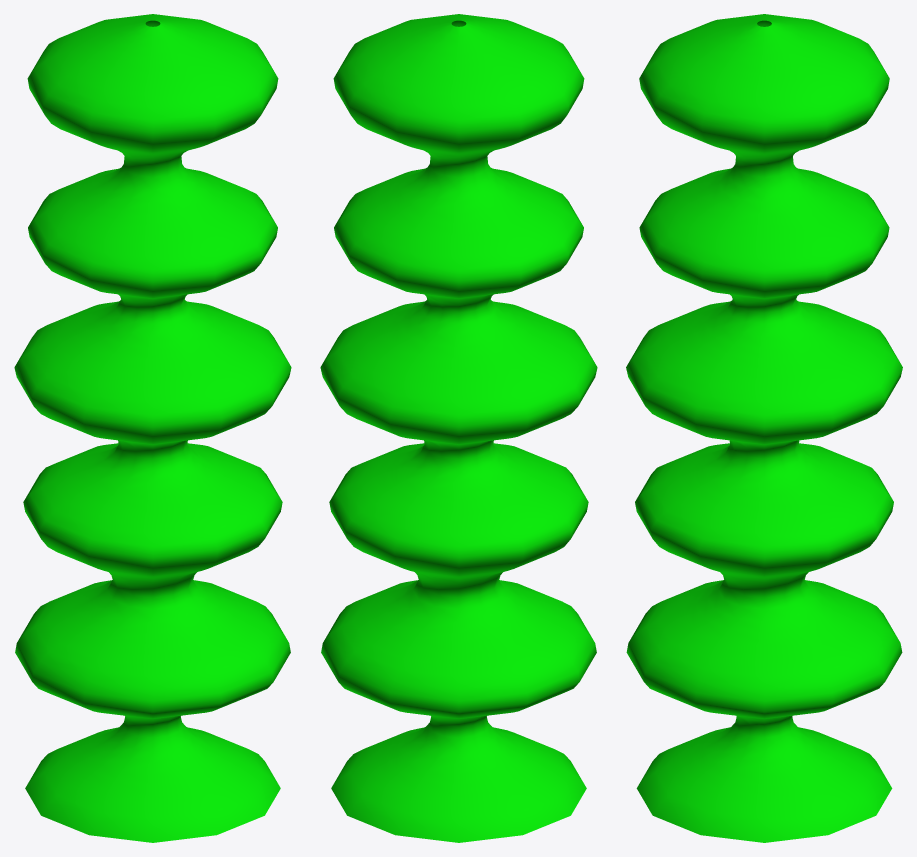
The model's file is GreenVaseModel.fbx.
3 views of the same model, side by side, from view 1: azimuth 30°, elevation 25°; view 2: azimuth 150°, elevation 25°; view 3: azimuth 270°, elevation 25° (orthographic).
Parts seen in each view (by area): view 1: nurbsToPoly1; view 2: nurbsToPoly1; view 3: nurbsToPoly1.
Part boxes in pixels (x1=…): nurbsToPoly1: x1=14, y1=14, x2=291, y2=842; nurbsToPoly1: x1=320, y1=14, x2=597, y2=842; nurbsToPoly1: x1=626, y1=14, x2=902, y2=842.
Size of the model in its own units: 3.64 by 10.97 by 3.6.
